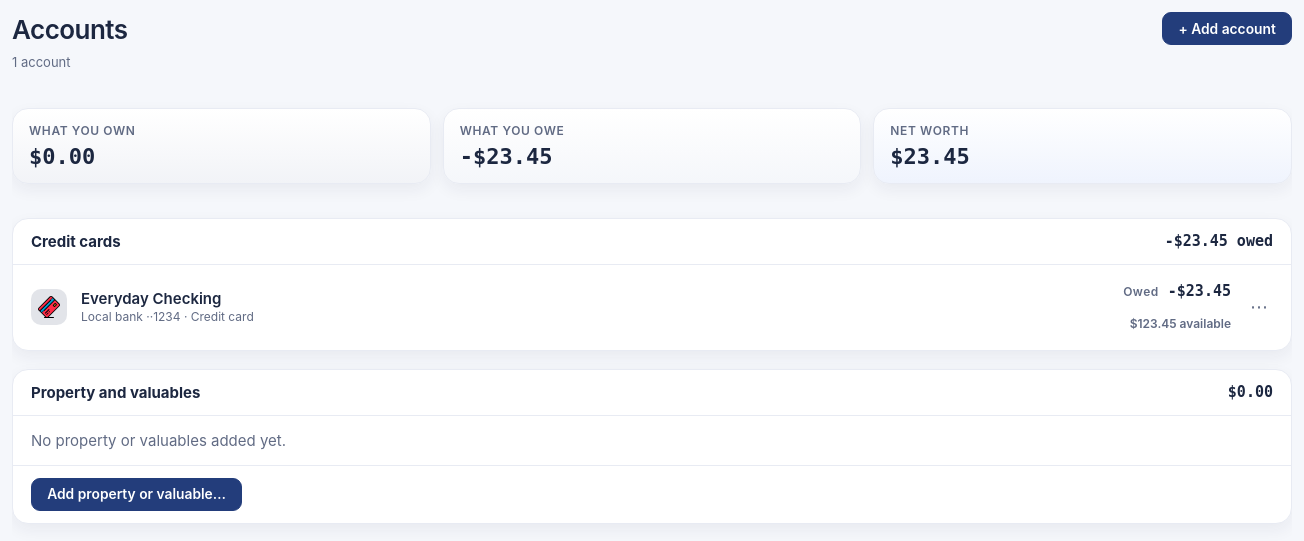
Test: account rows › credit limit and icon selection keep their own actions
Click the button with class "amount-editable" showing "$123.45 available" at point(1180, 324), box [1130, 310, 1231, 338]
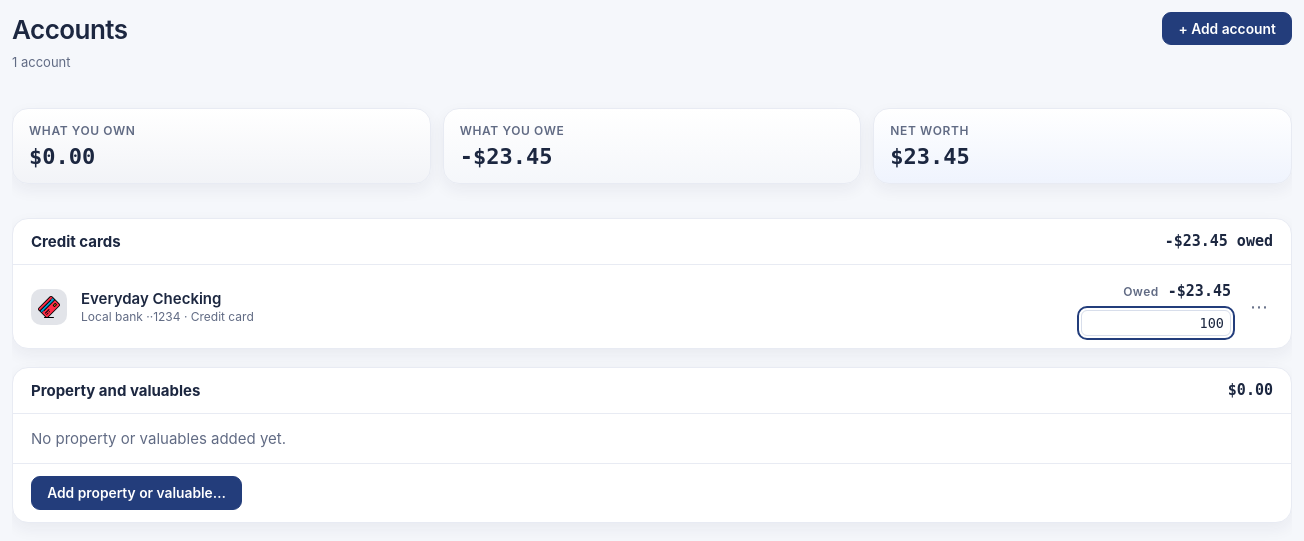
Expected: the field with class "amount-edit-input" holds "100", [1081, 310, 1231, 336]
Click the button with class "type-badge" at point(49, 306), box [31, 288, 67, 324]
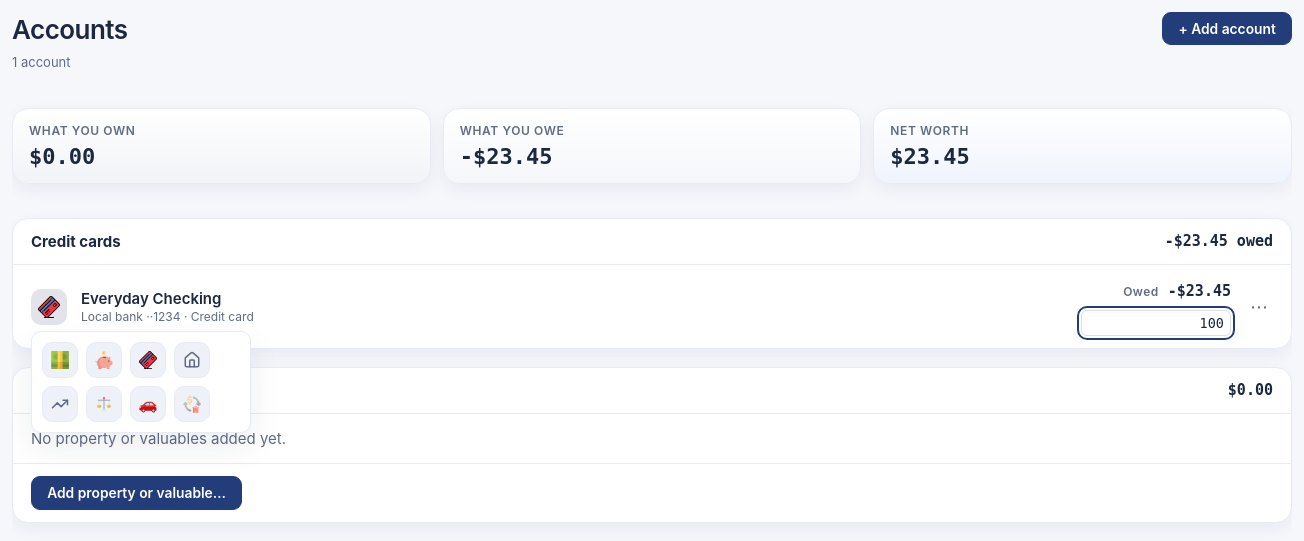
Expected: the element with class "icon-picker-popover" is shown, [31, 330, 251, 432]
